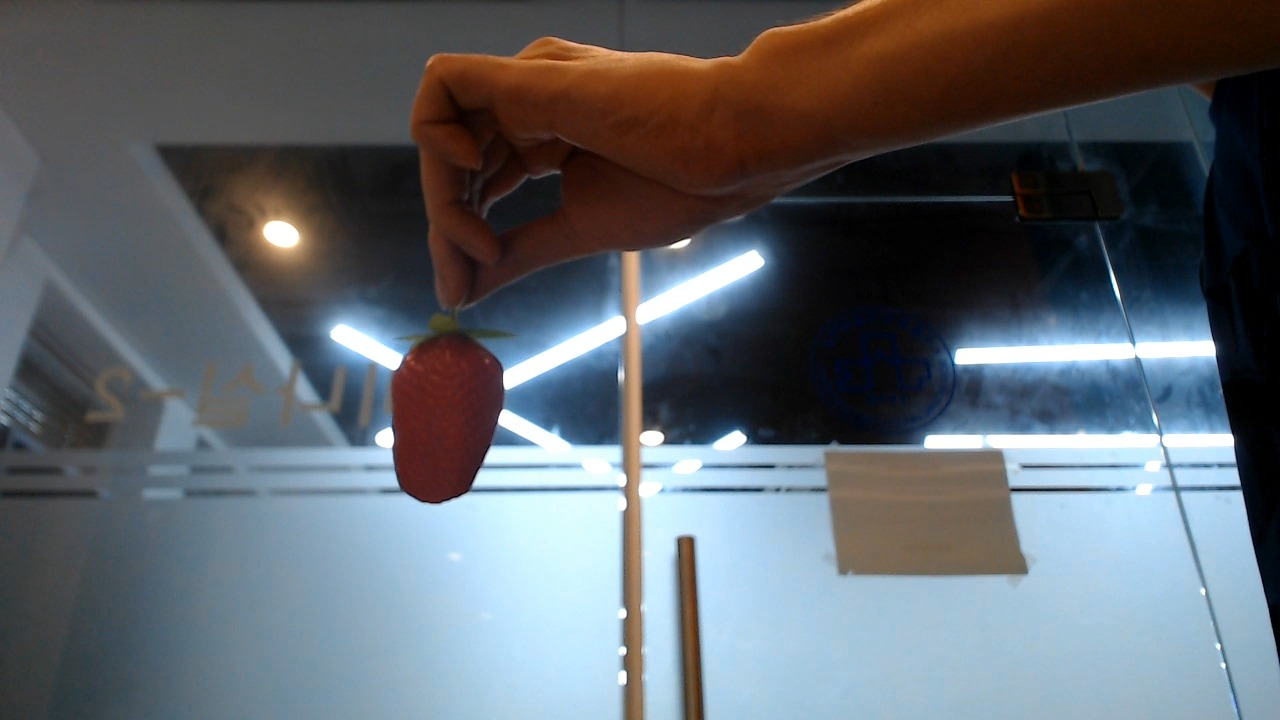strawberry: (390, 326, 505, 503)
